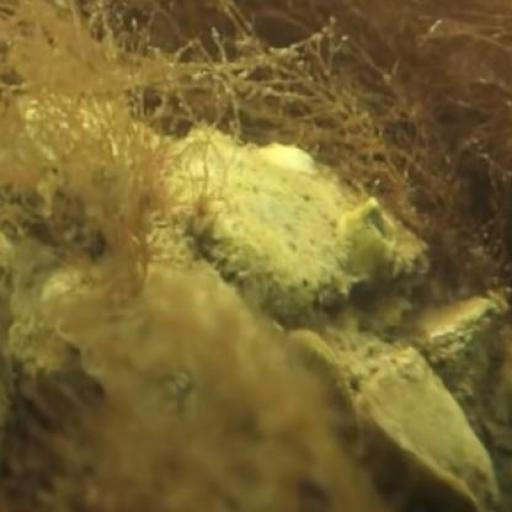Oyster-Closed: (178, 146, 428, 322), (407, 299, 505, 361)
